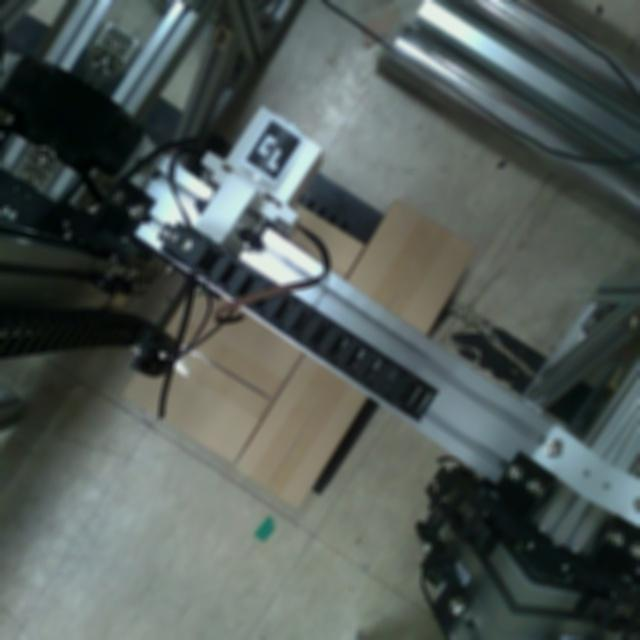box: (230, 350, 374, 512)
